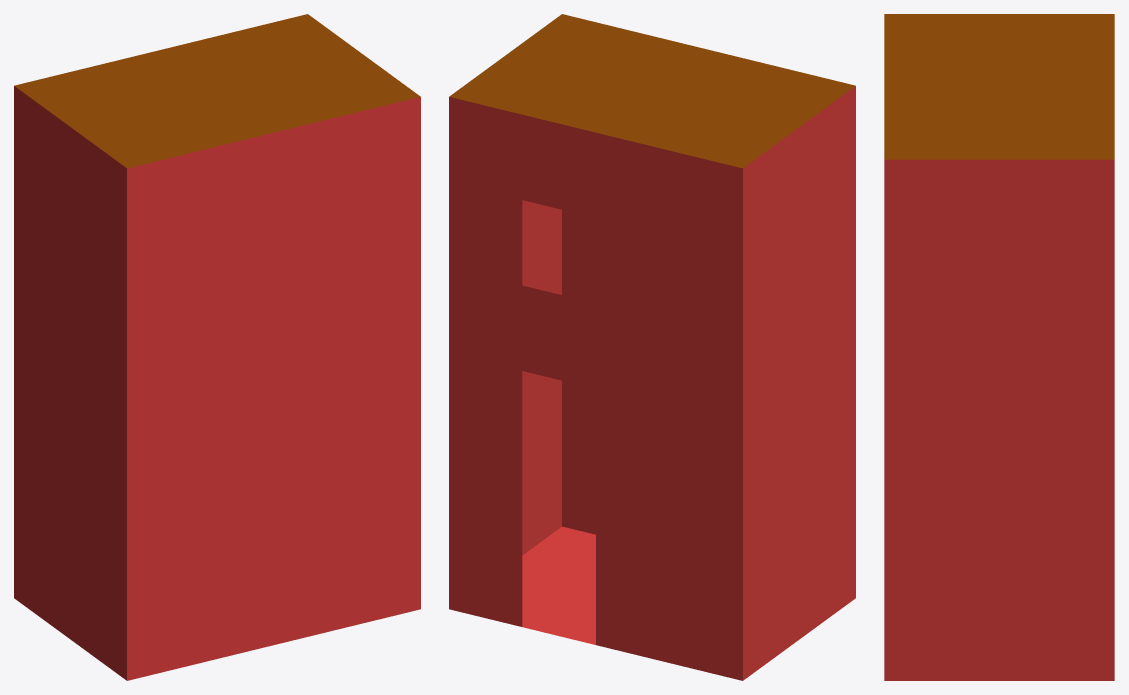
The model's file is red3.gltf.
The picture shows the model from 3 angles, left to right: view 1: azimuth 30°, elevation 25°; view 2: azimuth 150°, elevation 25°; view 3: azimuth 270°, elevation 25°; orthographic projection.
Parts seen in each view (by area): view 1: Cube; view 2: Cube; view 3: Cube.
Boxes of the visible parts, x1,y1,x2,y2 form: Cube: (14,14,420,680); Cube: (449,14,855,680); Cube: (884,14,1114,680).
Size of the model in its own units: 6 by 10 by 4.
